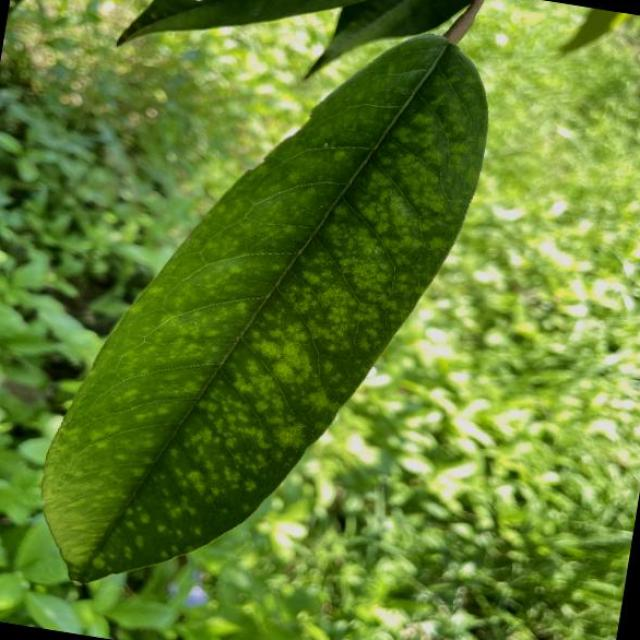Leaf Spot: (25, 0, 508, 630)
